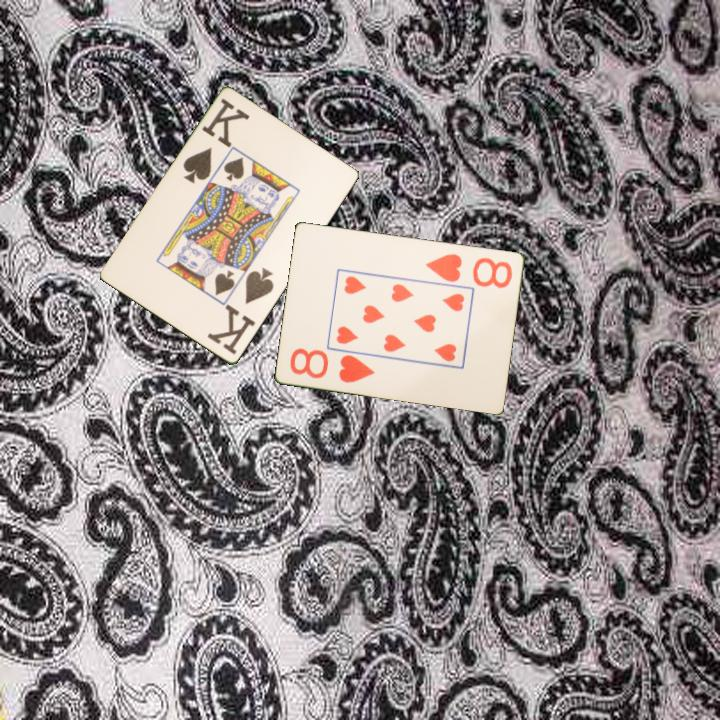8h: (286, 344, 378, 386), (422, 250, 516, 291)
Ks: (204, 264, 277, 358), (179, 95, 252, 187)
